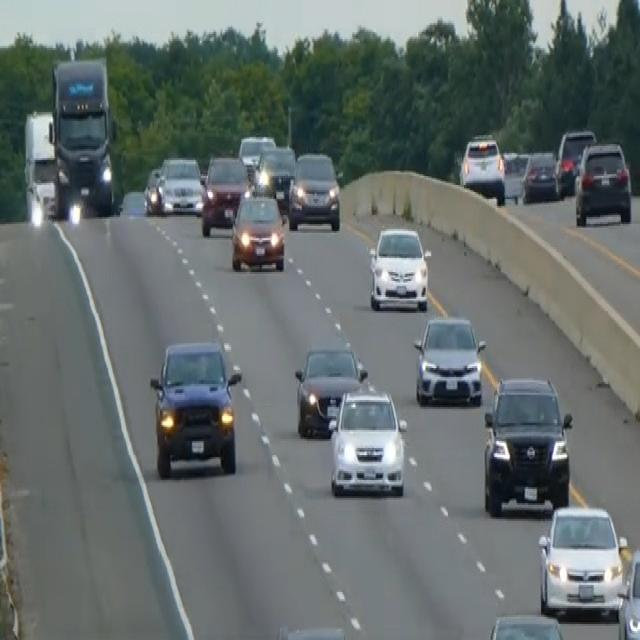car: (482, 374, 573, 516), (537, 502, 627, 620), (328, 386, 406, 498), (293, 342, 367, 438), (413, 311, 486, 407), (368, 222, 431, 311), (573, 138, 632, 225), (230, 190, 286, 272), (287, 149, 341, 231), (200, 153, 250, 235), (459, 132, 505, 202), (156, 153, 203, 215), (555, 126, 596, 196), (255, 142, 296, 208), (521, 149, 561, 203), (486, 612, 569, 638), (617, 544, 639, 638), (237, 131, 275, 185), (501, 149, 526, 201), (273, 622, 349, 638), (143, 164, 162, 214)
lorry: (48, 54, 116, 220)
